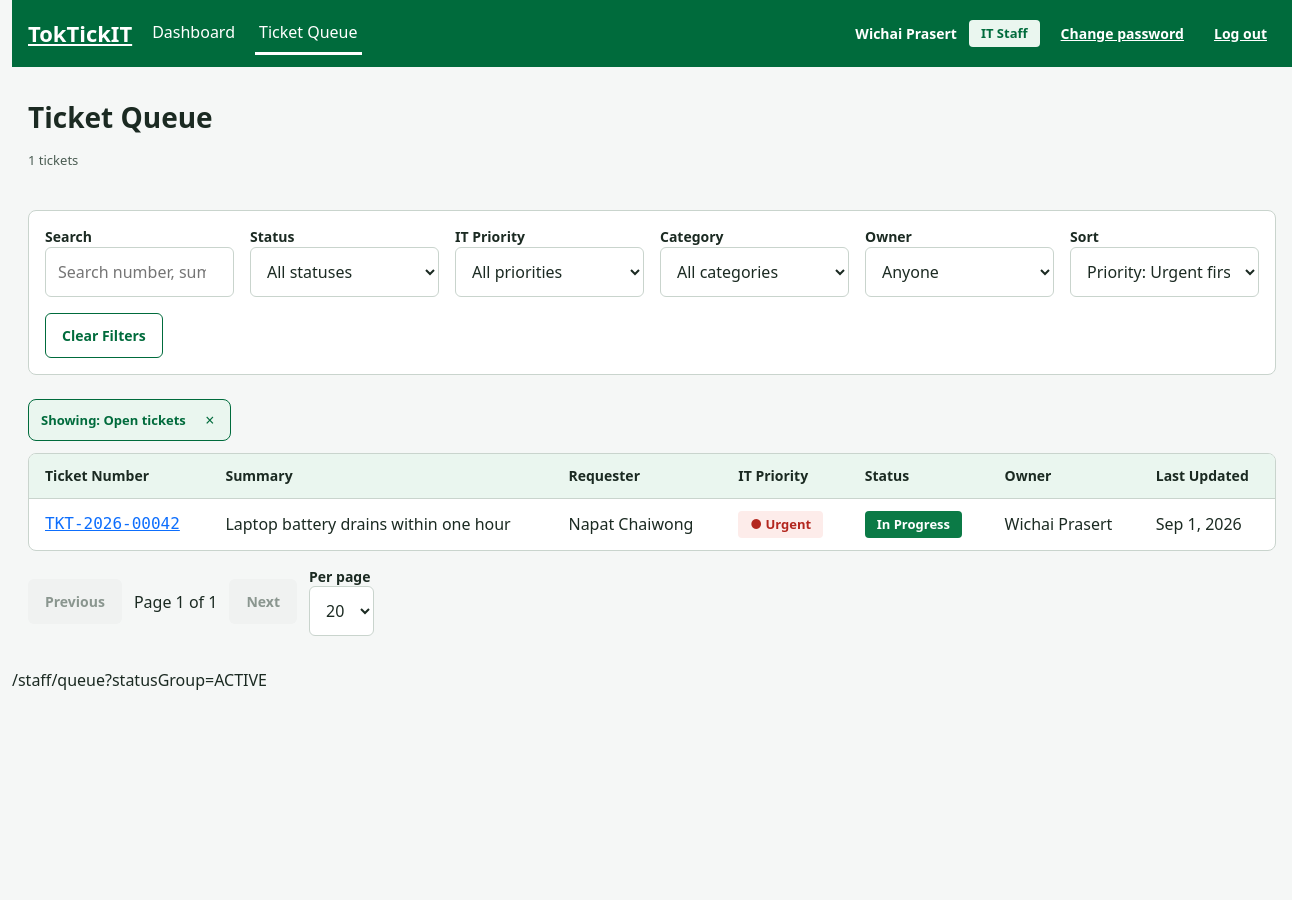
Test: UI-21 (AC-28) - drill-down filter chip › clears the chip on the Ticket Queue: the parameter leaves the URL and the list is refetched without it
Expected: the element with test id "staff-queue-screen" is shown, [28,99,1276,636]
Expected: the element with test id "filter-chip" is shown, [28,399,231,441]
Click the button with test id "btn-clear-filter".
click(210, 420)  # box [194,404,226,436]
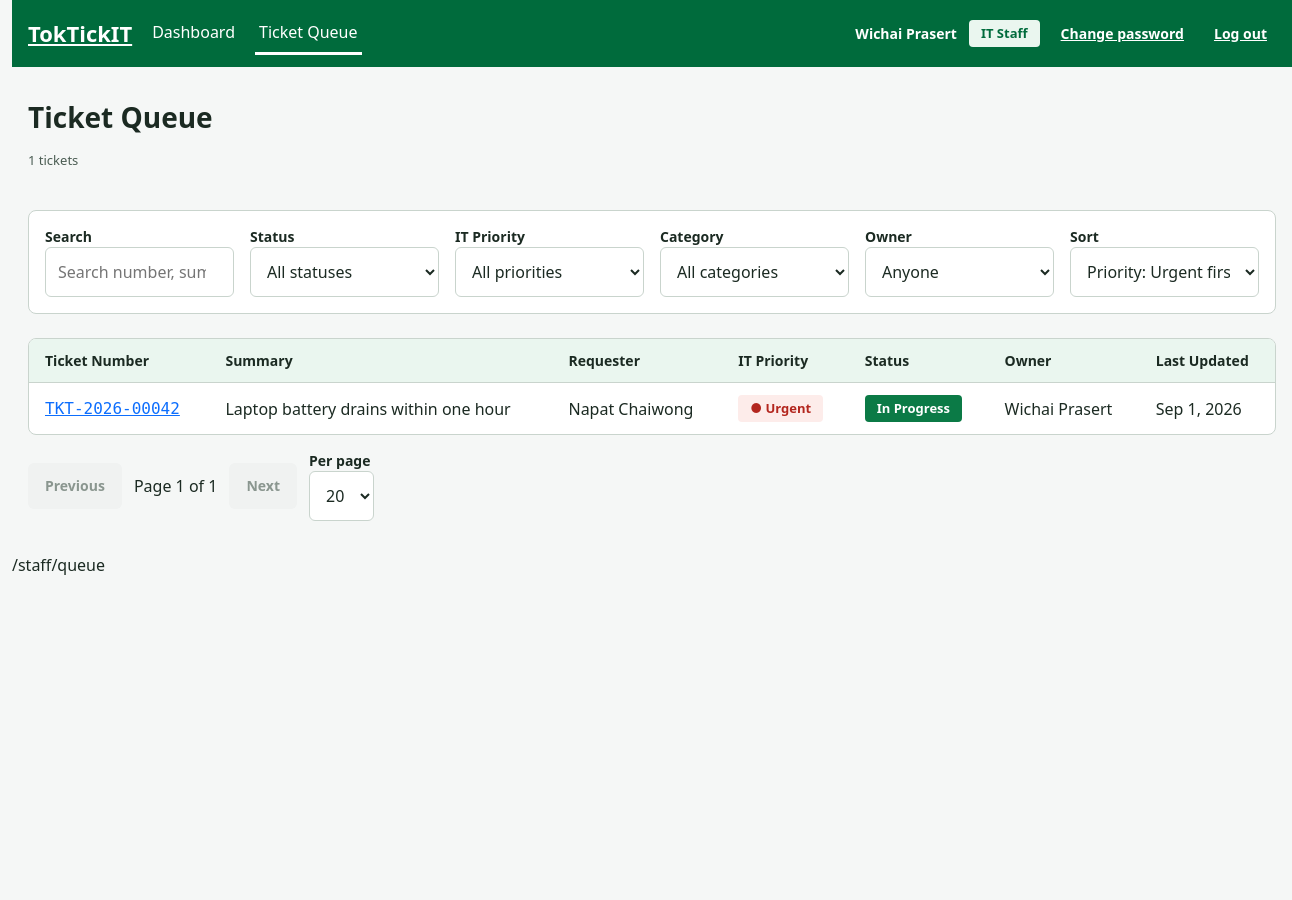
Now the element with test id "filter-chip" is gone
